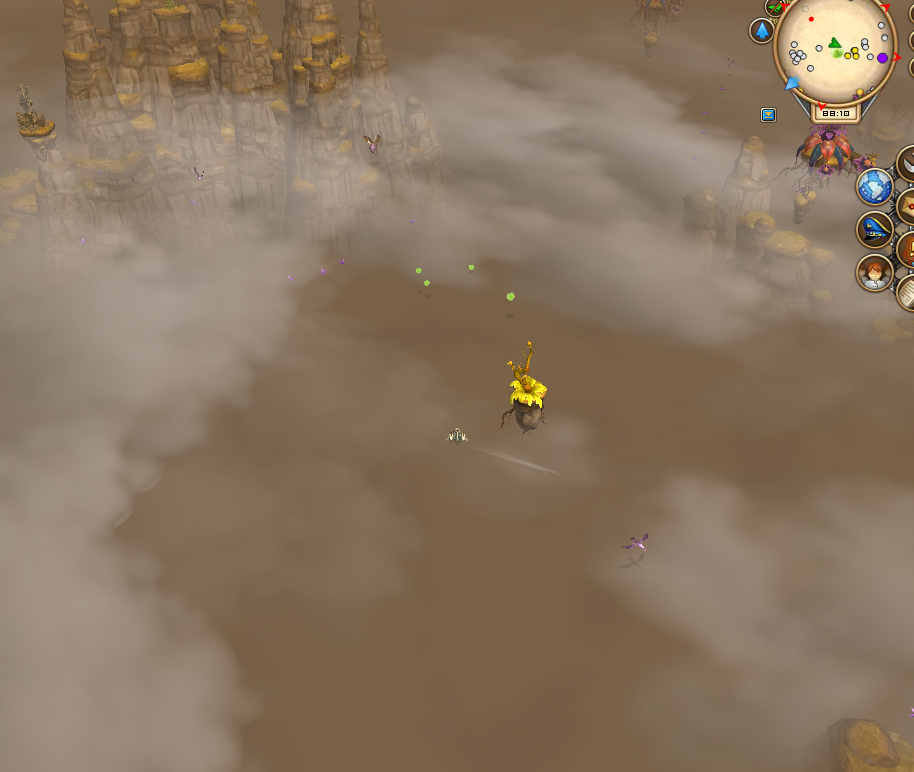dandelion-empty: (505, 343, 548, 430)
fluff: (503, 288, 519, 304), (465, 259, 478, 276), (421, 278, 432, 289), (413, 264, 423, 276)
